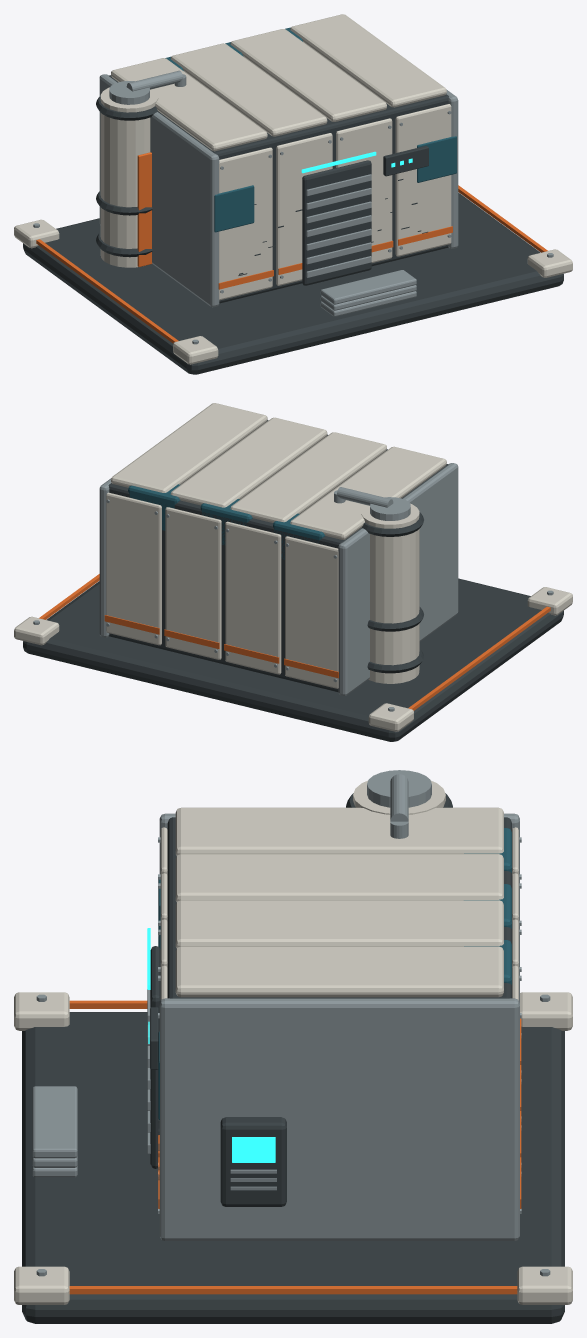
The model's file is SM_ElectronicsAssembly_Body.001.fbx.
The picture shows the model from 3 angles, top to bottom: view 1: azimuth 30°, elevation 25°; view 2: azimuth 150°, elevation 25°; view 3: azimuth 270°, elevation 25°; orthographic projection. The views are drawn at different scales.
Parts seen in each view (by area): view 1: SM_ElectronicsAssembly_Body.001; view 2: SM_ElectronicsAssembly_Body.001; view 3: SM_ElectronicsAssembly_Body.001.
Part boxes in pixels (x1=…): SM_ElectronicsAssembly_Body.001: x1=14, y1=14, x2=572, y2=374; SM_ElectronicsAssembly_Body.001: x1=14, y1=403, x2=572, y2=741; SM_ElectronicsAssembly_Body.001: x1=14, y1=770, x2=572, y2=1323.
Size of the model in its own units: 532 by 422 by 257.
